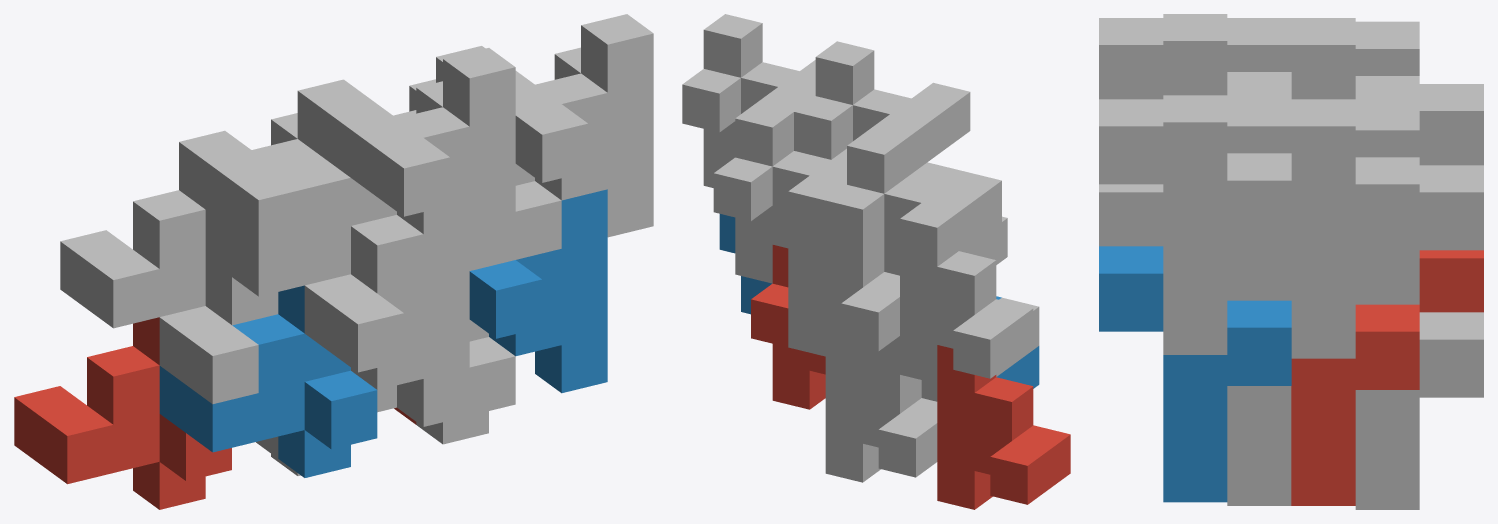
Rendered from tiling.obj.
3 views of the same model, side by side, from view 1: azimuth 30°, elevation 25°; view 2: azimuth 150°, elevation 25°; view 3: azimuth 270°, elevation 25° (orthographic). The views are drawn at different scales.
Visible parts, largest first — view 1: copy_2_domain_4, copy_2_domain_8, copy_2_domain_2, copy_1_domain_1, copy_1_domain_2, copy_1_domain_3, copy_1_domain_4, copy_2_domain_6, copy_2_domain_3, copy_2_domain_1, copy_1_domain_6, copy_1_domain_8 (+1 smaller); view 2: copy_1_domain_3, copy_1_domain_1, copy_1_domain_7, copy_1_domain_5, copy_2_domain_3, copy_2_domain_7, copy_2_domain_4, copy_2_domain_8, copy_2_domain_5, copy_1_domain_4, copy_2_domain_1, copy_2_domain_6 (+2 smaller); view 3: copy_2_domain_8, copy_2_domain_7, copy_2_domain_6, copy_2_domain_5, copy_1_domain_5, copy_1_domain_7, copy_2_domain_4, copy_1_domain_3, copy_1_domain_6, copy_1_domain_8, copy_2_domain_3, copy_1_domain_1 (+2 smaller).
Part boxes in pixels (x1,y1,x2,y2): copy_2_domain_4: [351, 48, 515, 270]; copy_2_domain_8: [515, 14, 653, 237]; copy_2_domain_2: [304, 223, 469, 426]; copy_1_domain_1: [14, 317, 231, 509]; copy_1_domain_2: [159, 285, 377, 477]; copy_1_domain_3: [60, 130, 278, 328]; copy_1_domain_4: [205, 99, 423, 296]; copy_2_domain_6: [469, 189, 607, 393]; copy_2_domain_3: [205, 79, 369, 248]; copy_2_domain_1: [159, 306, 278, 458]; copy_1_domain_6: [377, 320, 515, 444]; copy_1_domain_8: [515, 71, 561, 259]; copy_1_domain_3: [900, 203, 1033, 383]; copy_1_domain_1: [937, 345, 1070, 509]; copy_1_domain_7: [788, 176, 899, 356]; copy_1_domain_5: [825, 317, 937, 482]; copy_2_domain_3: [825, 130, 1001, 275]; copy_2_domain_7: [713, 103, 846, 283]; copy_2_domain_4: [794, 41, 970, 161]; copy_2_domain_8: [682, 14, 815, 187]; copy_2_domain_5: [751, 245, 825, 409]; copy_1_domain_4: [869, 114, 1001, 262]; copy_2_domain_1: [863, 297, 1039, 401]; copy_2_domain_6: [719, 214, 771, 314]; copy_2_domain_8: [1099, 95, 1291, 354]; copy_2_domain_7: [1291, 99, 1419, 358]; copy_2_domain_6: [1099, 246, 1291, 502]; copy_2_domain_5: [1291, 304, 1419, 505]; copy_1_domain_5: [1355, 312, 1483, 509]; copy_1_domain_7: [1355, 103, 1483, 304]; copy_2_domain_4: [1099, 14, 1291, 99]; copy_1_domain_3: [1355, 21, 1483, 165]; copy_1_domain_6: [1227, 386, 1291, 505]; copy_1_domain_8: [1227, 99, 1291, 300]; copy_2_domain_3: [1291, 18, 1419, 102]; copy_1_domain_1: [1419, 250, 1483, 312].
Bounding box in the file's own units: 11 × 9 × 6.
